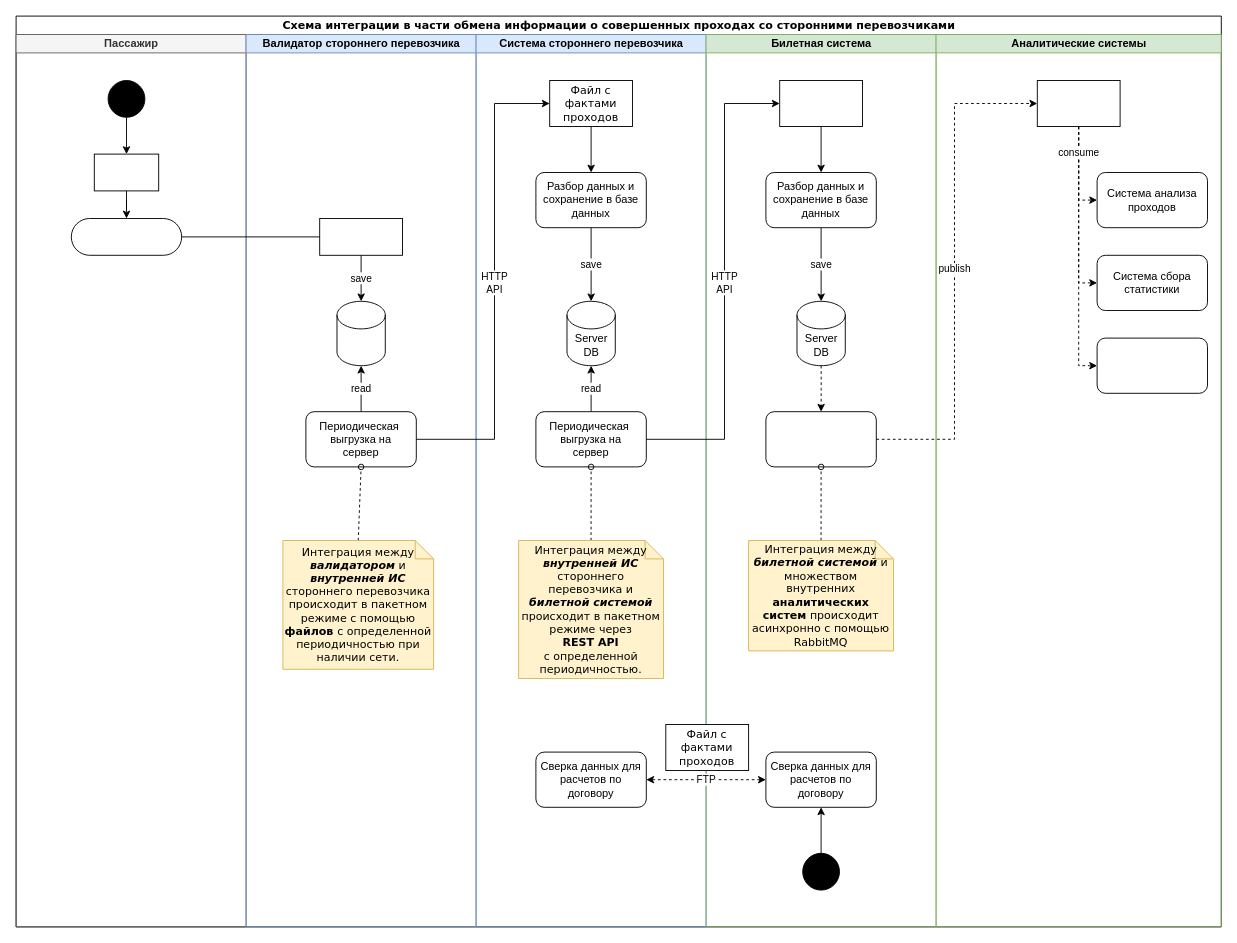
The diagram is 1237 pixels wide and 943 high, and some of its shapes have lost their labels. The centre of each missing label's shape, as x and y in pixels:
"JSON с фактами проходов" goes at (820,103).
"Local DB" goes at (360,333).
"Билетный носитель" goes at (126,172).
"Прикладывается к валидатору" goes at (126,236).
"Публикация фактов проходов в шину данных (RabbitMQ)" goes at (820,439).
"Система N" goes at (1152,365).
"Сообщения с фактами проходов" goes at (1078,103).
"Факт прохода" goes at (360,236).
